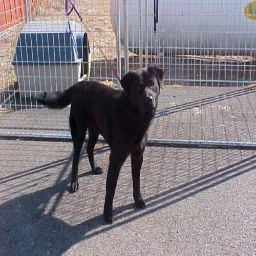dog: (36, 61, 168, 225)
